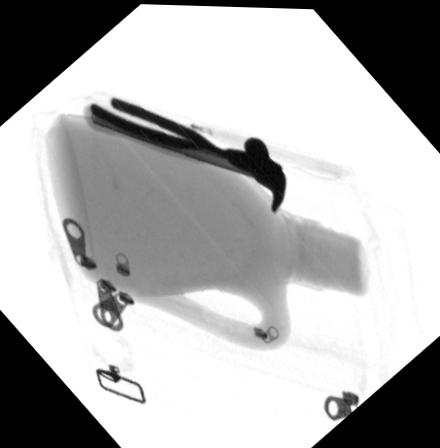Hammer: (83, 104, 286, 211)
Pliers: (90, 96, 283, 172)
